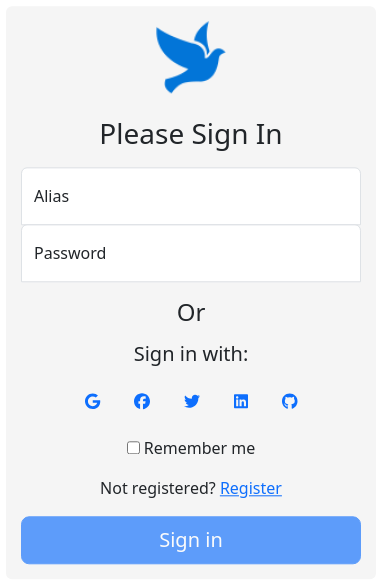
Scenario: Login Component › sign-in button is disabled if either the alias or password field is cleared
This screenshot has width=383, height=587.
Step 1. Type "testAlias" into the field labelled "Alias" → (191, 196), box x1=21 y1=167 x2=361 y2=225
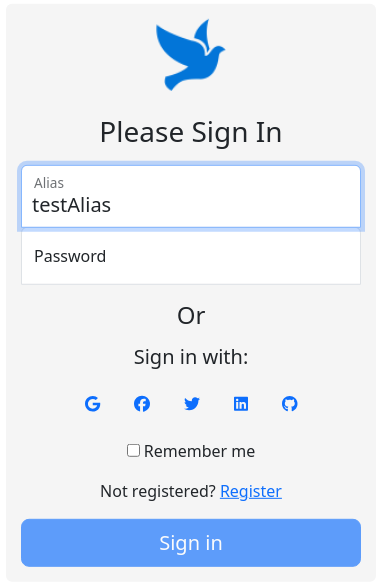
Step 2. Type "testPassword" into the password field labelled "Password" → (191, 255), box x1=21 y1=226 x2=361 y2=284
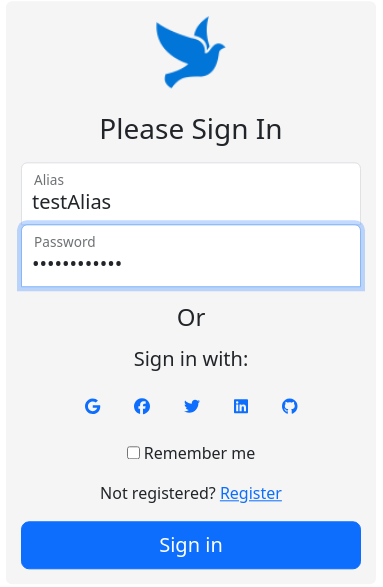
Step 3. Clear the field labelled "Alias" → (191, 193), box x1=21 y1=162 x2=361 y2=225
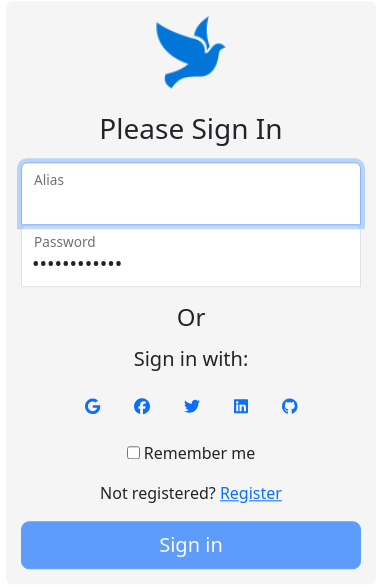
Expected: the button "Sign in" is disabled, x1=21 y1=522 x2=361 y2=570
Step 4. Type "testAlias" into the field labelled "Alias" → (191, 193), box x1=21 y1=162 x2=361 y2=225
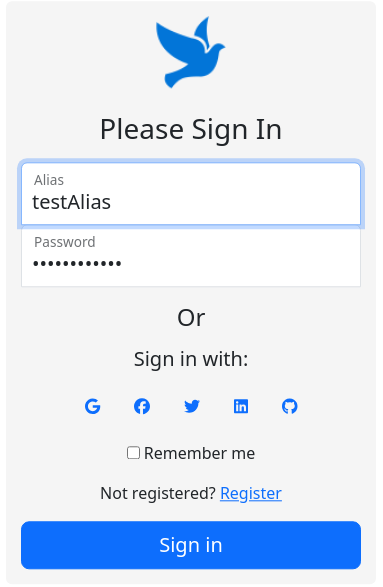
Expected: the button "Sign in" is enabled, x1=21 y1=522 x2=361 y2=570
Step 5. Clear the password field labelled "Password" → (191, 255), box x1=21 y1=224 x2=361 y2=287
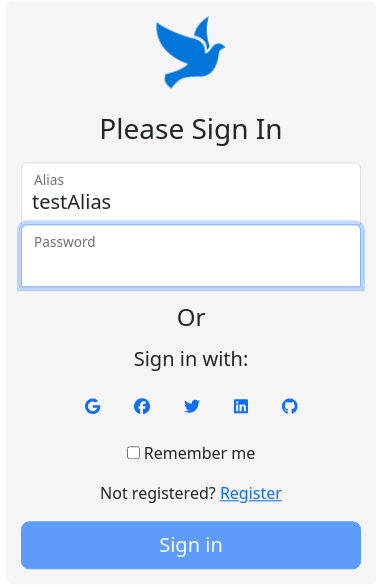
Expected: the button "Sign in" is disabled, x1=21 y1=522 x2=361 y2=570
